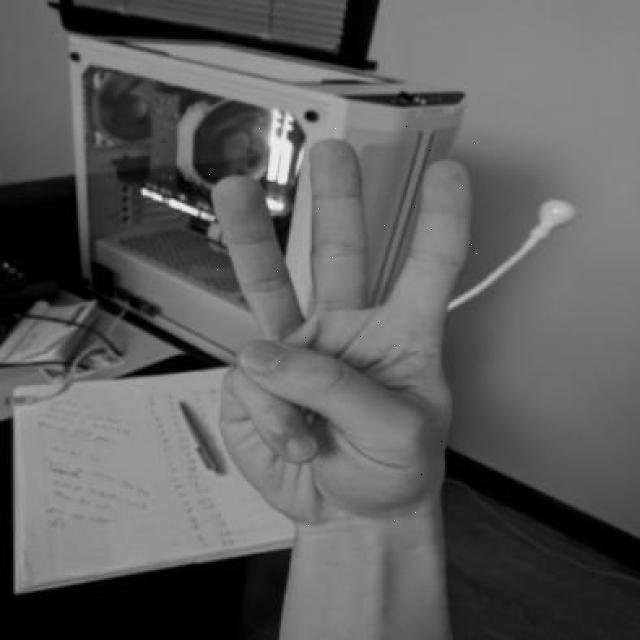W: (202, 126, 483, 533)
